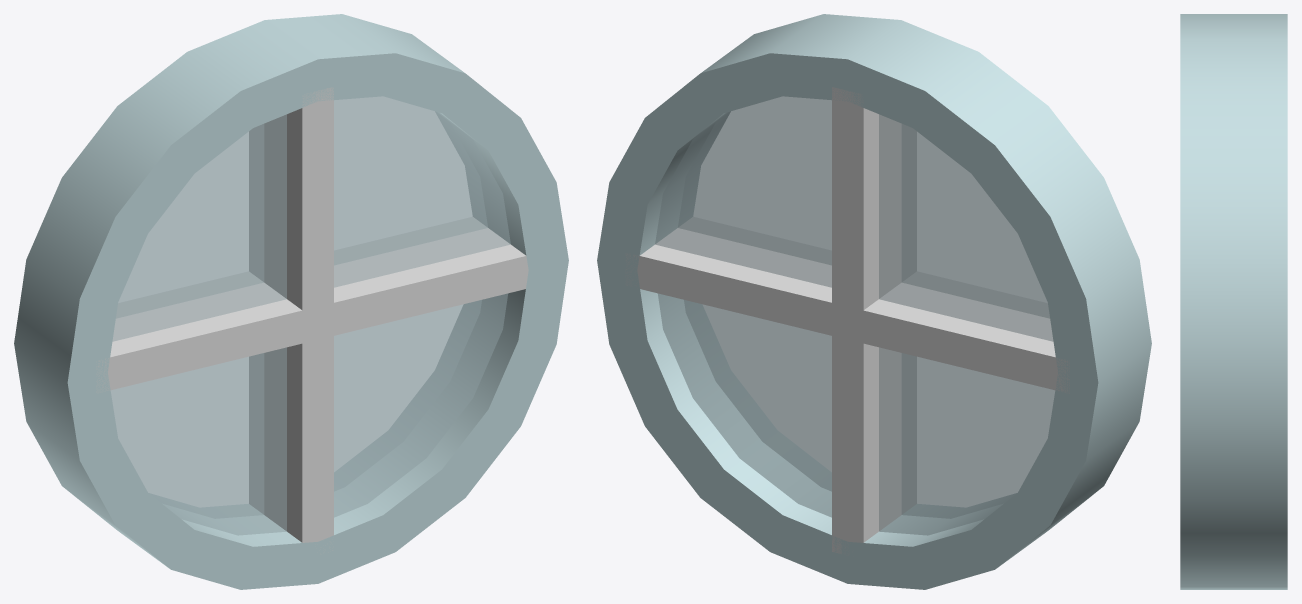
The model's file is pencere 2.2.fbx.
The picture shows the model from 3 angles, left to right: view 1: azimuth 30°, elevation 25°; view 2: azimuth 150°, elevation 25°; view 3: azimuth 270°, elevation 25°; orthographic projection.
Visible parts, largest first — view 1: pPipe3; view 2: pPipe3; view 3: pPipe3.
Boxes of the visible parts, box(x1,y1,x2,y2) form: pPipe3: box(14, 14, 568, 589); pPipe3: box(597, 14, 1151, 589); pPipe3: box(1180, 14, 1287, 589).
Bounding box in the file's own units: 688 × 688 × 127.
